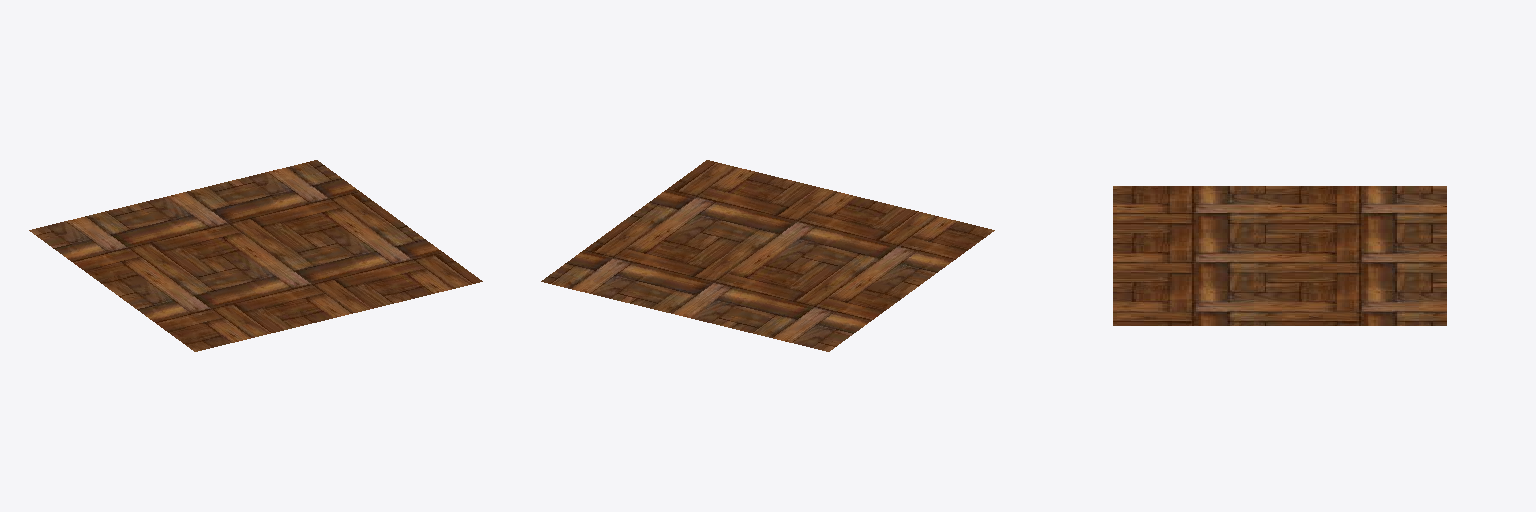
The picture shows the model from 3 angles: view 1: azimuth 30°, elevation 25°; view 2: azimuth 150°, elevation 25°; view 3: azimuth 270°, elevation 25°; orthographic projection.
Visible parts, largest first — view 1: Plane; view 2: Plane; view 3: Plane.
Part boxes in pixels (left/top/right/bottom): Plane: left=29, top=160, right=482, bottom=351; Plane: left=541, top=160, right=994, bottom=351; Plane: left=1113, top=186, right=1446, bottom=325.
Size of the model in its own units: 2 by 0 by 2.
1 materials, 1 textured.